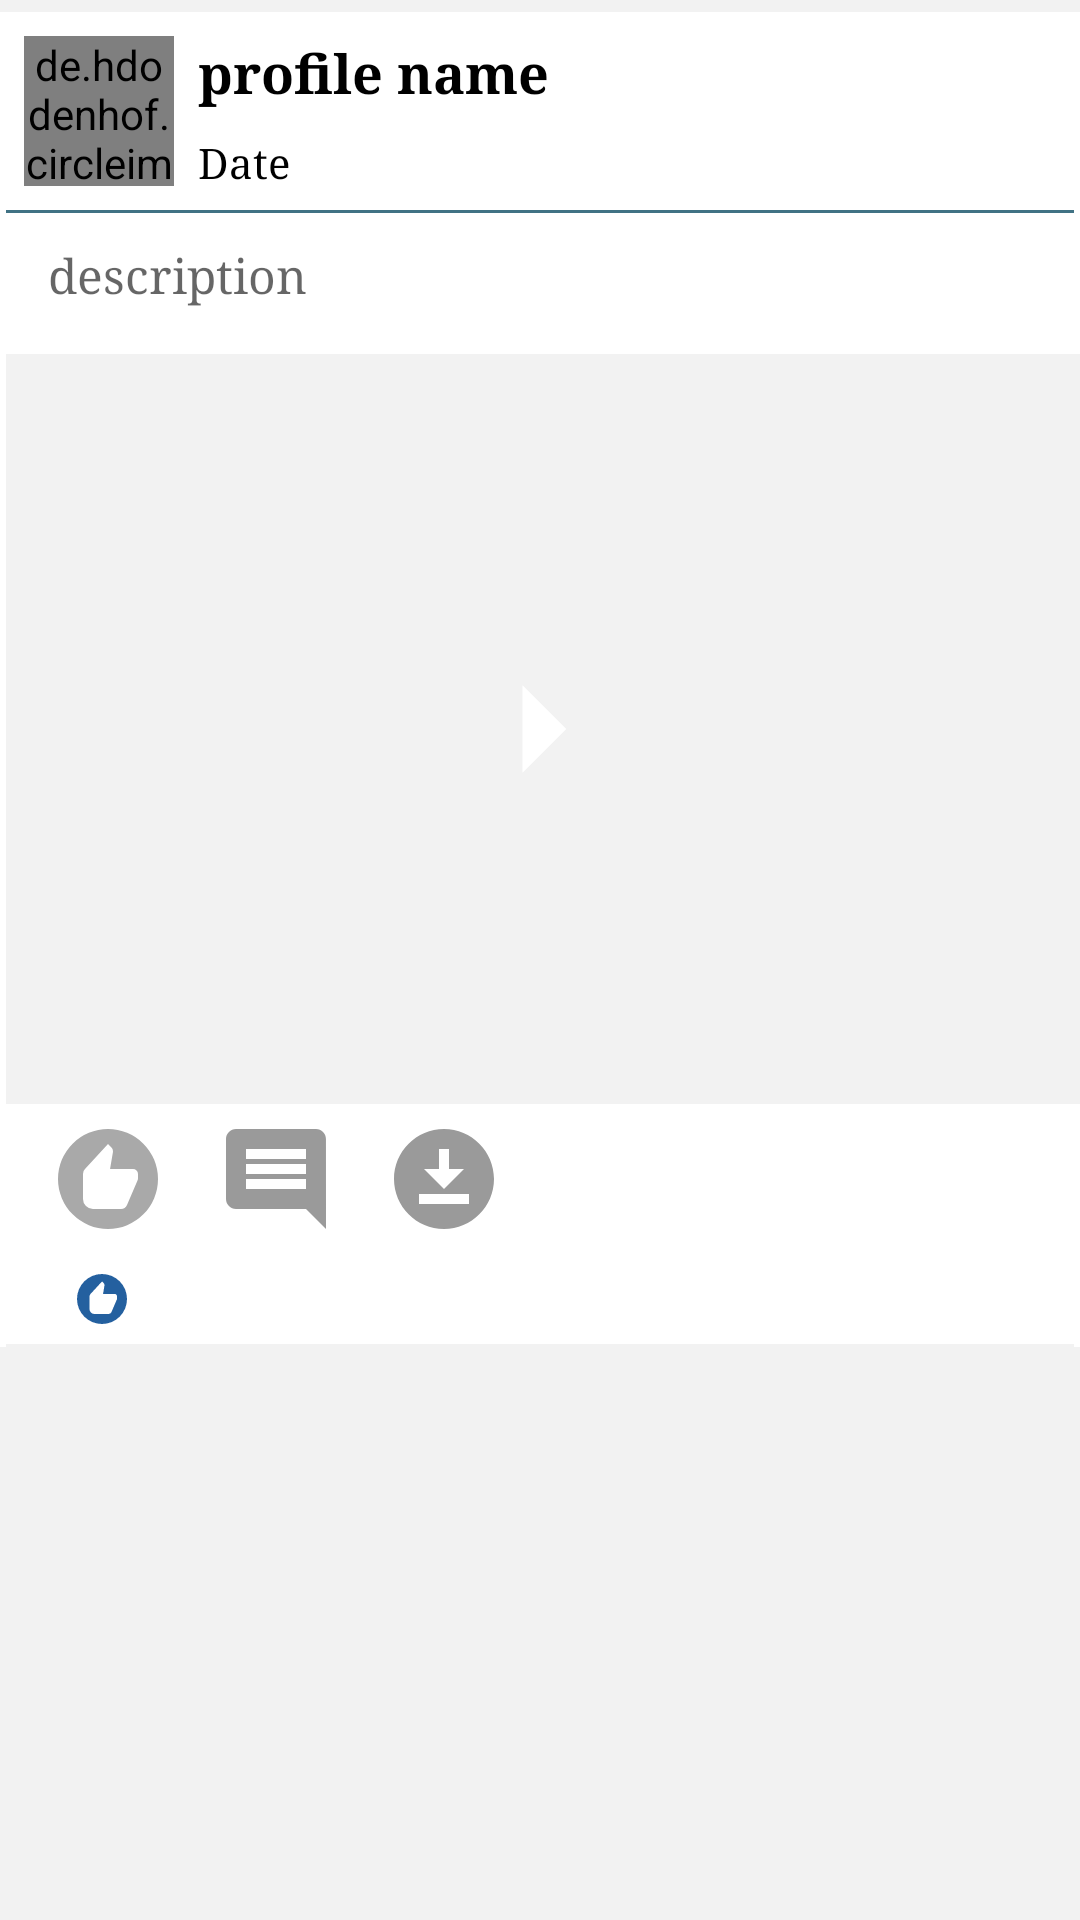

Where icons sit on this 1080*1920 app screen, as (x1, y1, x2, y2):
comment: (226, 1129, 326, 1229)
download: (394, 1129, 494, 1229)
recommend: (58, 1129, 158, 1229), (77, 1274, 127, 1324)
